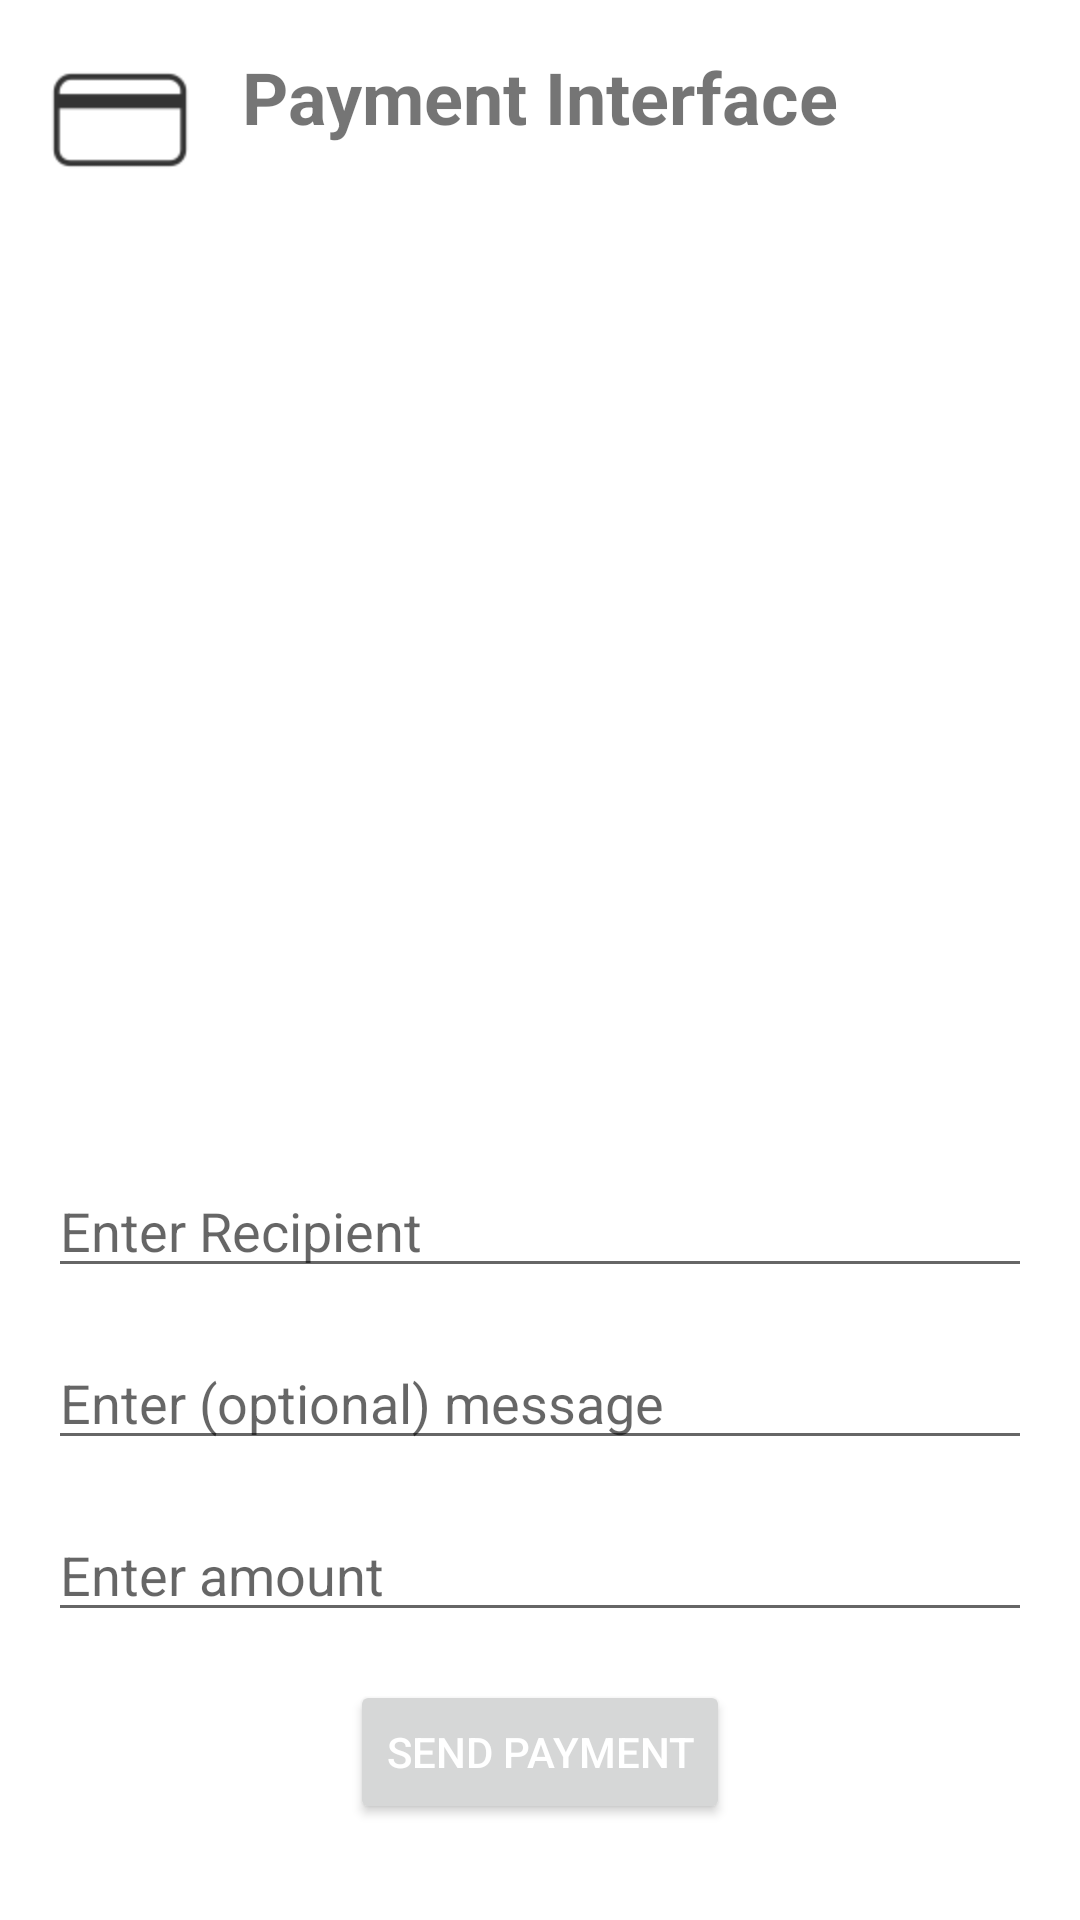

Where icons sit on this 1080×1920 app screen, as {"left": x1, "top": y1, "right": x2, "bottom": y2}:
Credit Card Icon: {"left": 53, "top": 73, "right": 187, "bottom": 167}
